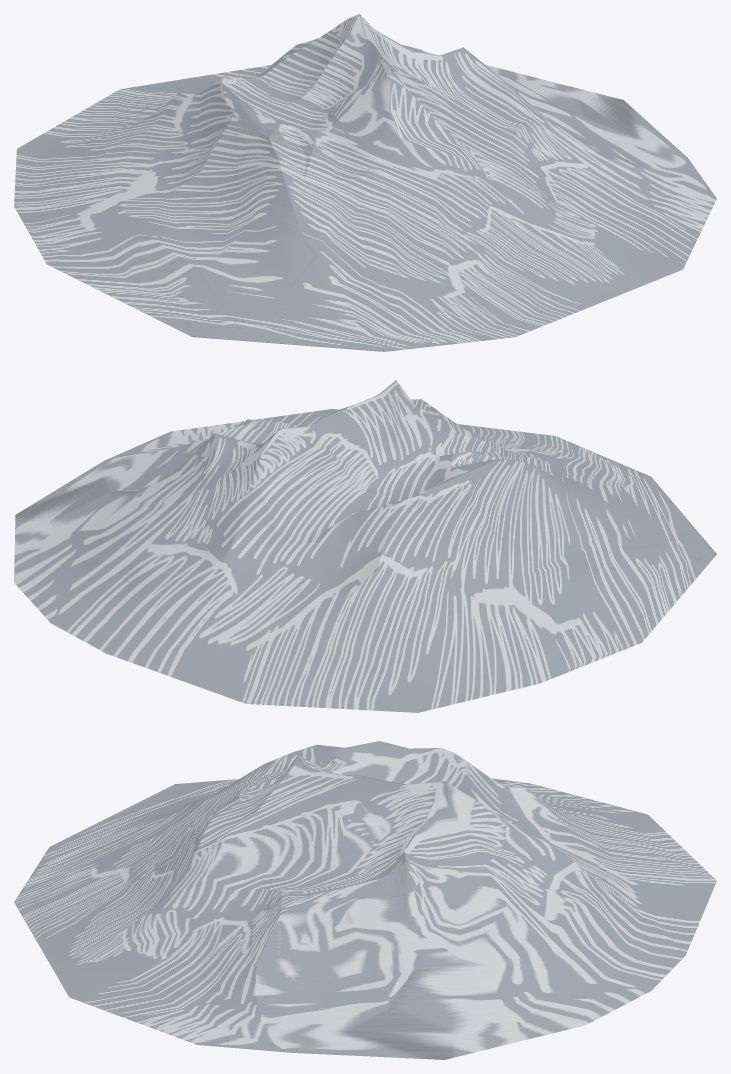
Rendered from mountainL_2050.glb.
3 views of the same model, one above another, from view 1: azimuth 30°, elevation 25°; view 2: azimuth 150°, elevation 25°; view 3: azimuth 270°, elevation 25° (orthographic).
Parts seen in each view (by area): view 1: mountain.L; view 2: mountain.L; view 3: mountain.L.
Boxes of the visible parts, left/top/right/bottom form: mountain.L: left=14, top=14, right=716, bottom=351; mountain.L: left=14, top=380, right=716, bottom=712; mountain.L: left=14, top=741, right=716, bottom=1059.
Bounding box in the file's own units: 136 × 33.7 × 138.
Materials: 1 (1 with a texture image).
